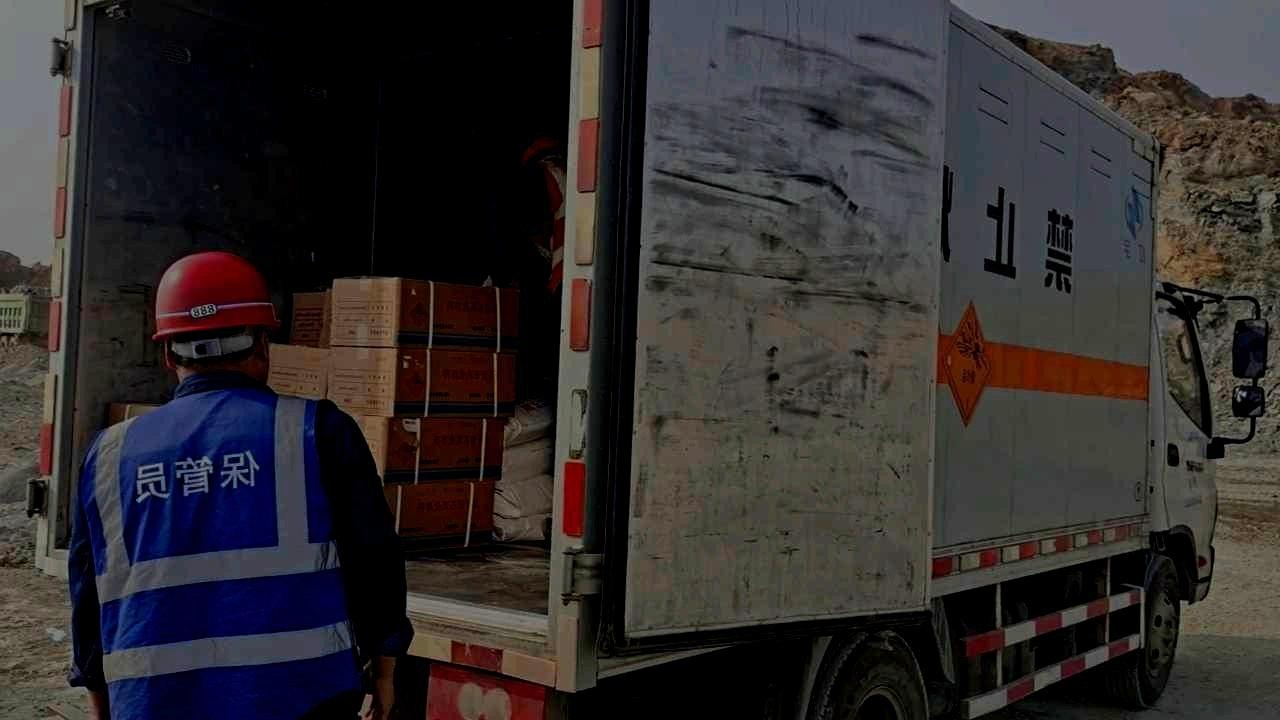helmet: (151, 251, 280, 385), (1231, 700, 1250, 720)
